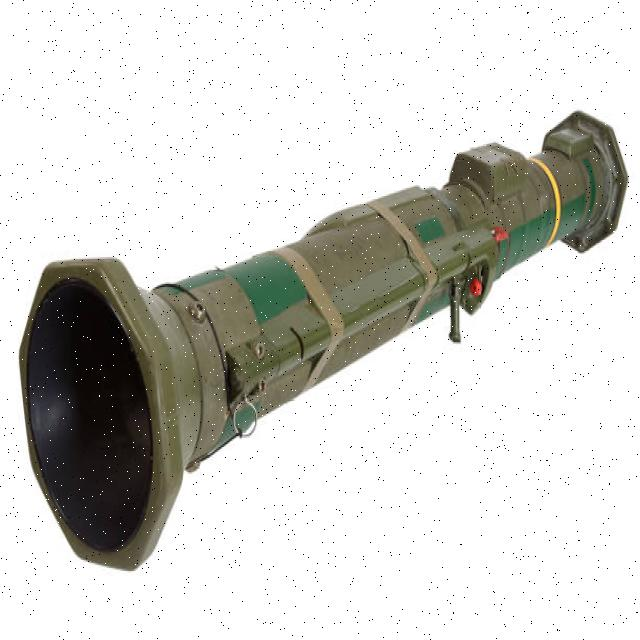bazooka: (1, 100, 640, 585)
